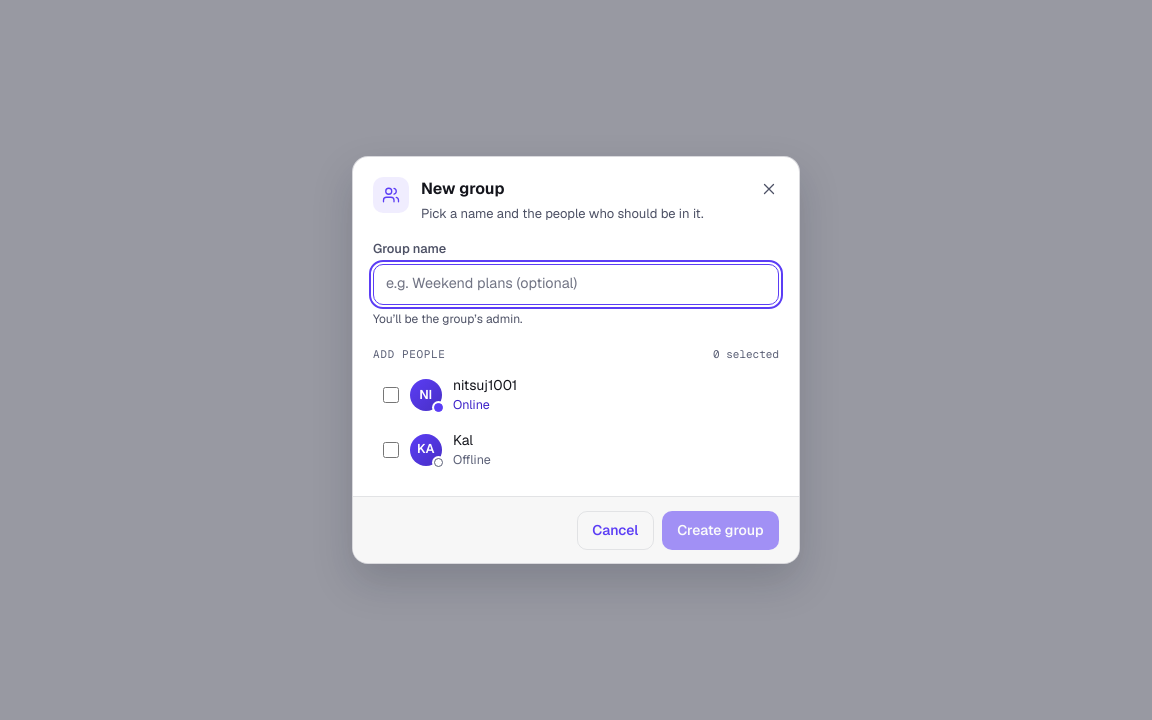
Test: GroupModal › can’t create a group until someone is picked
Expected: the text "Kal" is shown, [453, 431, 473, 449]
Expected: the button "Create group" is disabled, [662, 510, 779, 550]
Click the checkbox labelled "KA Kal Offline": (391, 450) [383, 442, 399, 458]
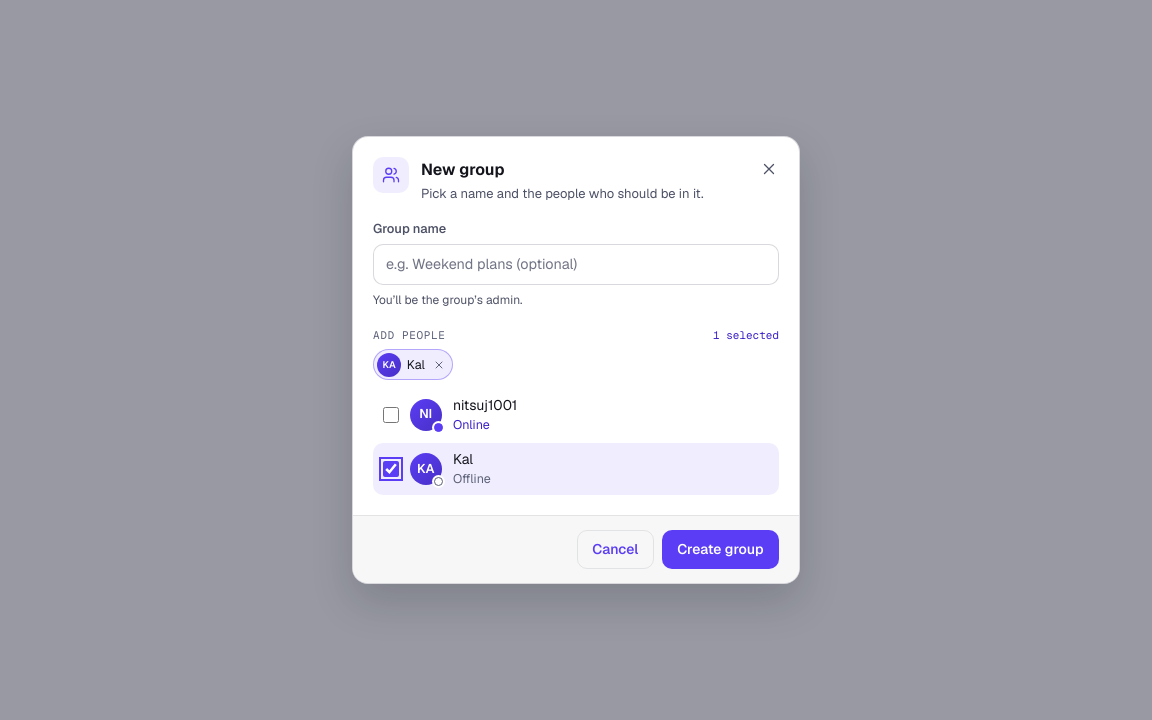
Expected: the button "Create group" is enabled, [662, 530, 779, 569]
